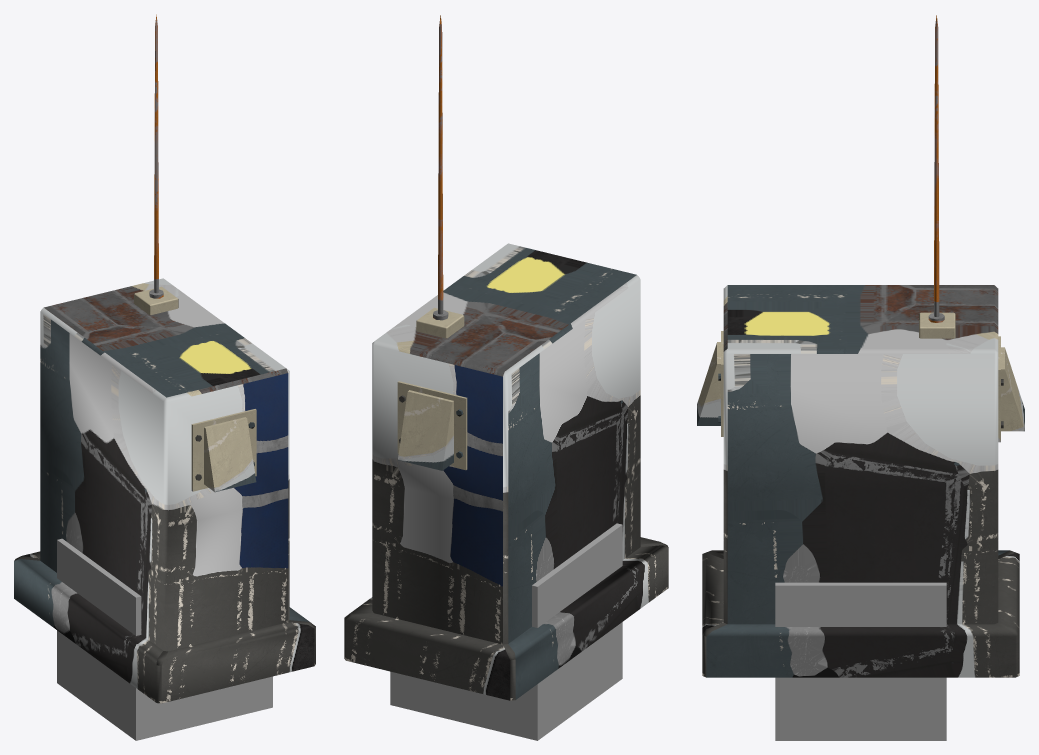
Rendered from Details.fbx.
3 views of the same model, side by side, from view 1: azimuth 30°, elevation 25°; view 2: azimuth 150°, elevation 25°; view 3: azimuth 270°, elevation 25° (orthographic). The views are drawn at different scales.
Visible parts, largest first — view 1: ElectricBox03, pCube1; view 2: ElectricBox03, pCube1; view 3: ElectricBox03, pCube1.
Part boxes in pixels (x1,y1,x2,y2): ElectricBox03: (14, 14, 315, 703); pCube1: (57, 538, 272, 740); ElectricBox03: (344, 15, 668, 700); pCube1: (390, 523, 622, 740); ElectricBox03: (697, 15, 1024, 677); pCube1: (775, 582, 946, 740).
Size of the model in its own units: 1.16 by 4.53 by 1.91.
